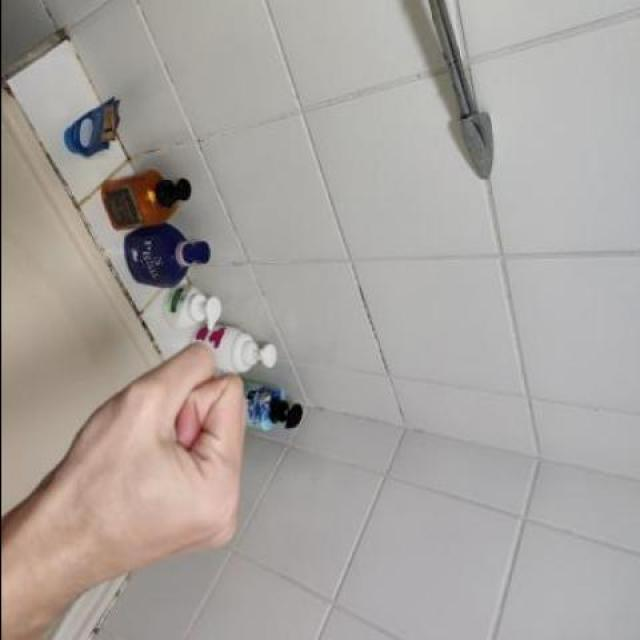Closed Hand: (0, 332, 261, 640)
